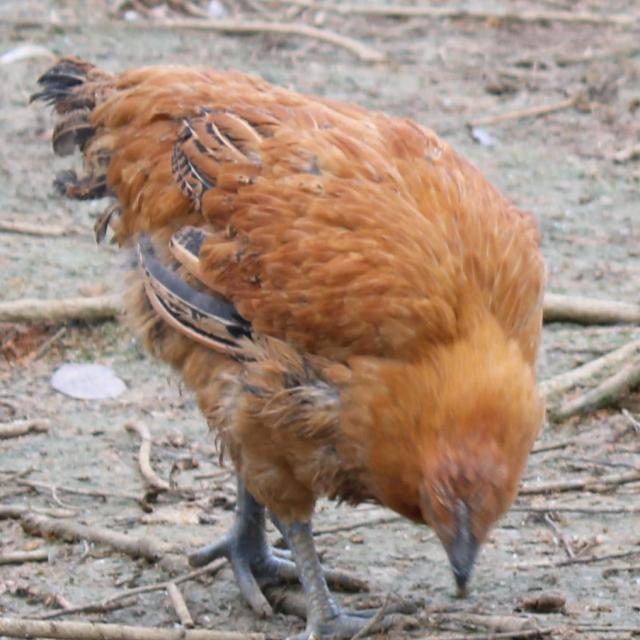hen: (0, 318, 236, 615)
